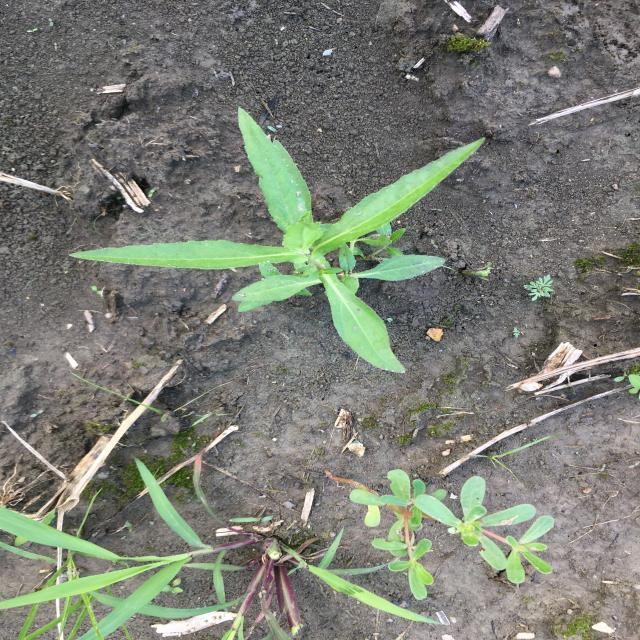Eclipta: (63, 104, 490, 378)
Purslane: (323, 467, 558, 602)
Ragweed: (522, 271, 557, 303)
